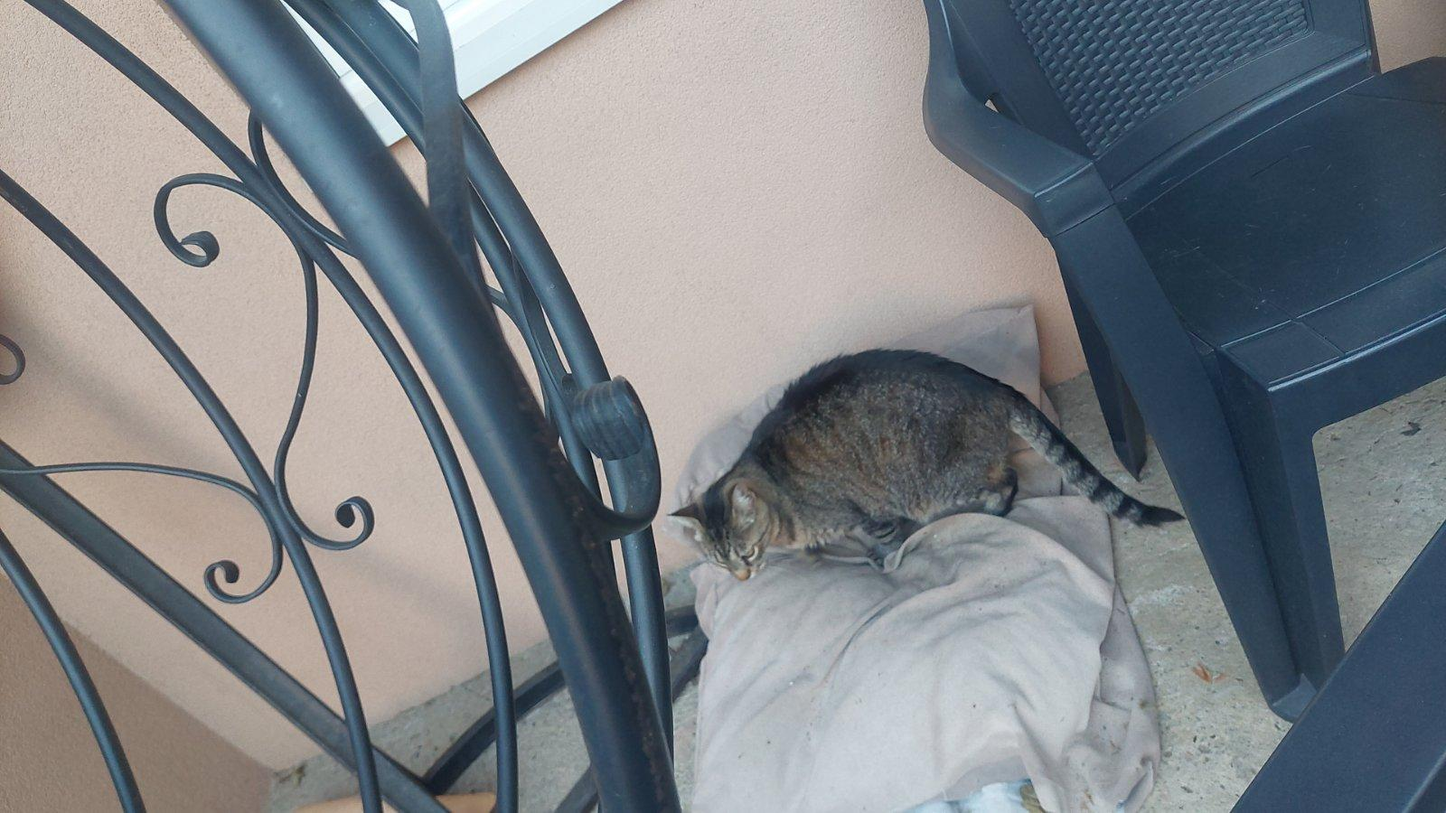macka: (667, 346, 1183, 584)
